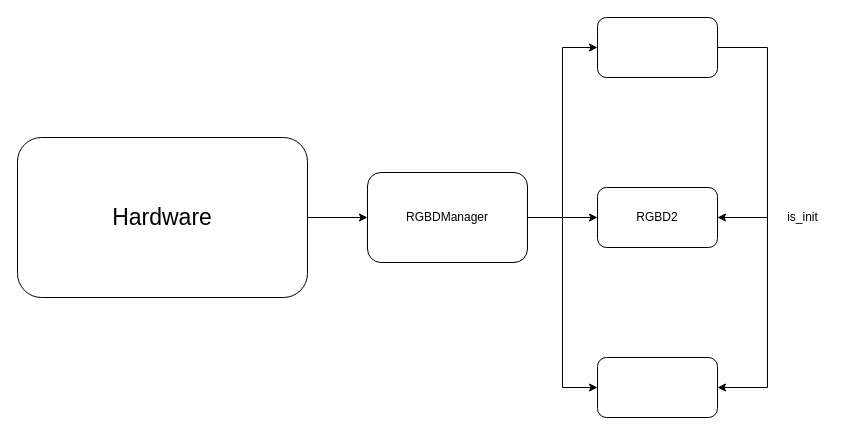
This 845x435 diagram has some shape labels left out. The centre of each missing label's shape, as x and y in pixels:
"RGBD1" goes at (x=657, y=47).
"RGBD3" goes at (x=657, y=387).
